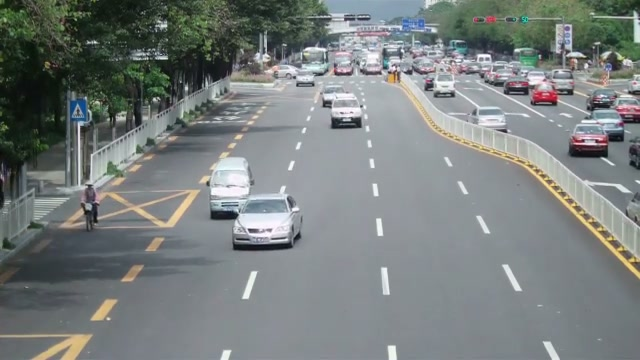bus: (302, 47, 328, 75)
car: (232, 193, 304, 250), (208, 157, 254, 219), (568, 121, 609, 157), (330, 95, 363, 129), (592, 110, 625, 142), (467, 105, 508, 130), (586, 88, 618, 111), (613, 97, 640, 123), (549, 69, 575, 95), (530, 83, 559, 106), (320, 84, 347, 107), (433, 72, 455, 97), (503, 79, 529, 95), (295, 70, 315, 87)
pedestrian: (80, 183, 101, 229)
truck: (333, 52, 354, 76)
